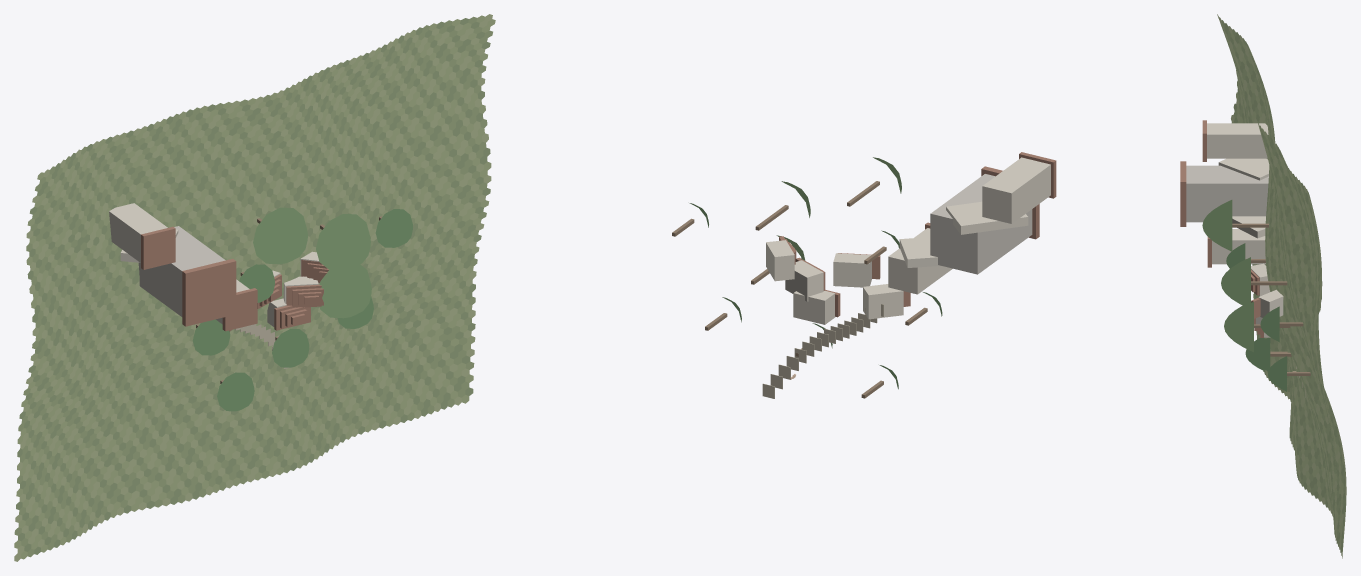
File: land.glb
3 renders of one model, left to right at view 1: azimuth 30°, elevation 25°; view 2: azimuth 150°, elevation 25°; view 3: azimuth 270°, elevation 25°, orthographic. The views are drawn at different scales.
Visible parts, largest first — view 1: ground (×4), crown (×8), keep_cap, keep, tower_cap (×2), tower; view 2: house (×5), tower (×2), keep, curtain (×2); view 3: ground (×4), crown (×7), keep, tower (×2), curtain (×2), house (×2), keep_cap.
Part boxes in pixels (x1,y1,x2,y2): ground (×4): (14,14,495,561); crown (×8): (192,207,412,411); keep_cap: (182,259,236,326); keep: (138,226,225,316); tower_cap (×2): (141,226,257,331); tower: (109,203,167,262); house (×5): (766,240,903,324); tower (×2): (888,157,1050,294); keep: (930,174,1032,274); curtain (×2): (899,201,1028,267); ground (×4): (1217,14,1346,558); crown (×7): (1202,200,1286,391); keep: (1186,165,1268,222); tower (×2): (1207,123,1268,264); curtain (×2): (1218,158,1269,238); house (×2): (1251,263,1283,317); keep_cap: (1180,161,1186,226).
Bounding box in the file's own units: 120 × 92 × 40.35.
